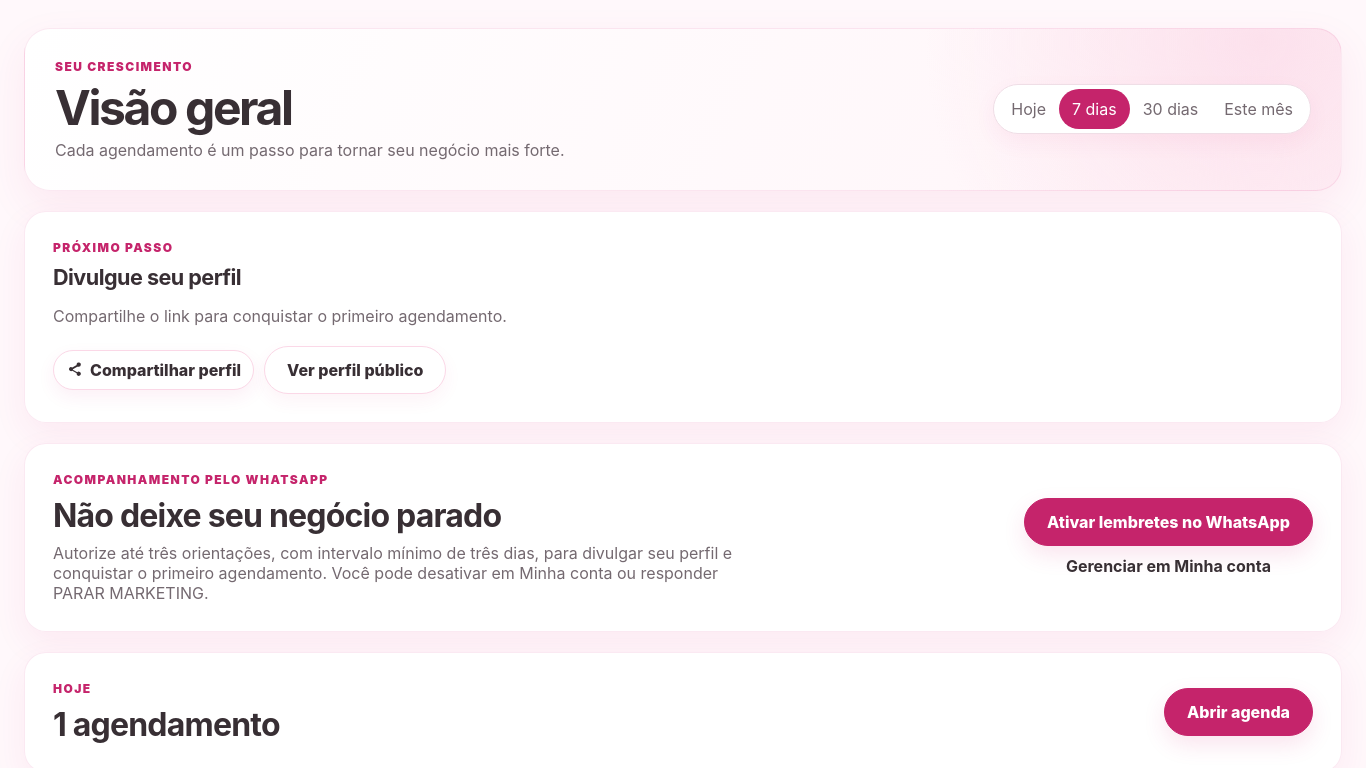
dashboard › destaca a ativação do WhatsApp e registra a autorização em um toque
The image size is (1366, 768).
Check: the heading "Não deixe seu negócio parado" is shown, box [53,496,501,535]
Check: the text "responder PARAR MARKETING" is shown, box [53,543,732,603]
Click the button "Ativar lembretes no WhatsApp". click: (1168, 522)
box: [1024,498,1313,546]
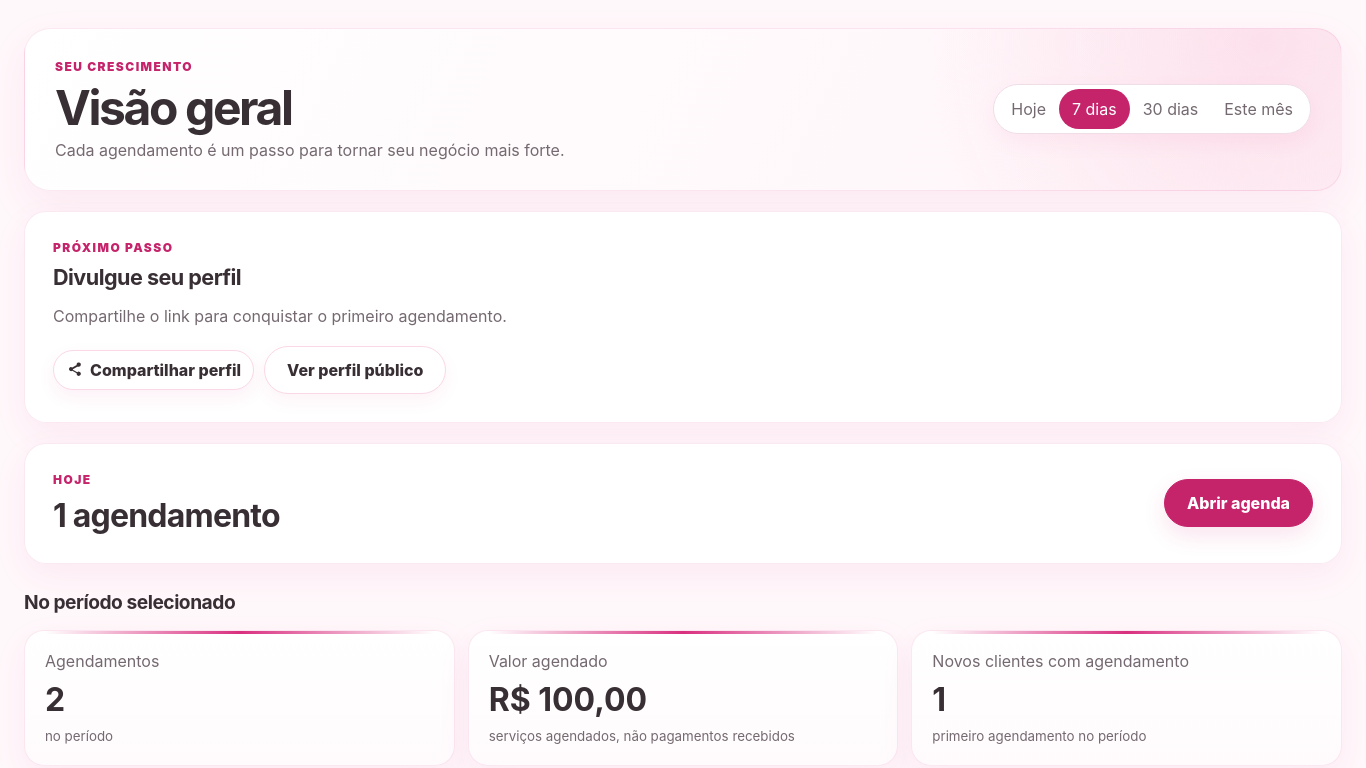
Check: the button "Ativar lembretes no WhatsApp" is gone
